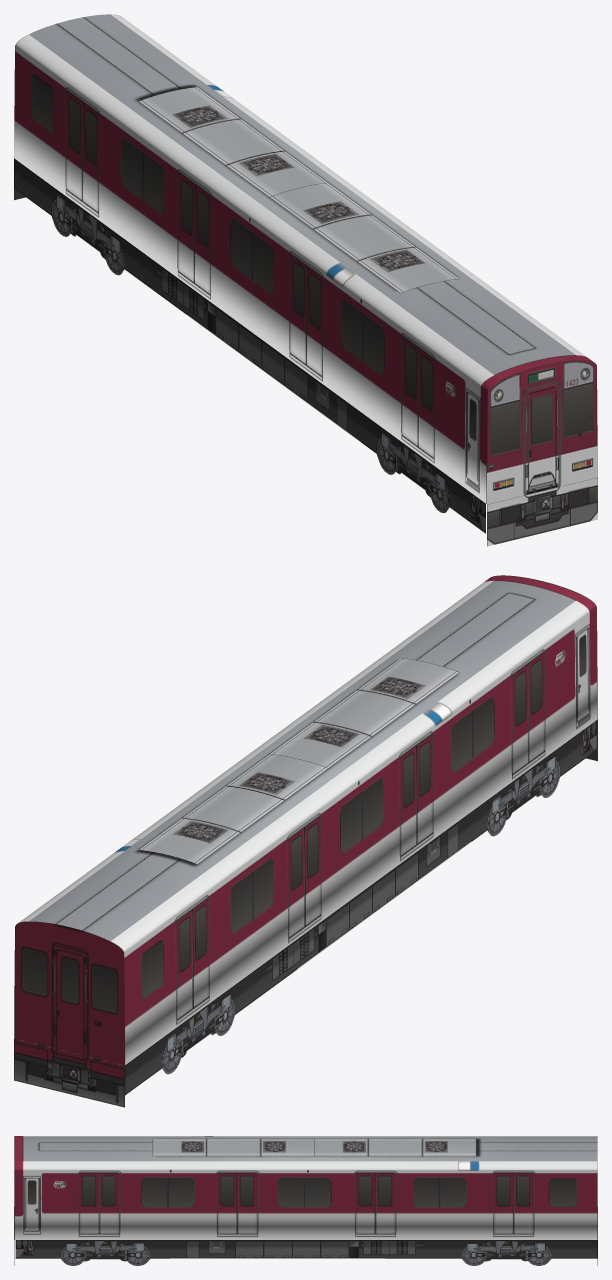
The model's file is car1.glb.
3 renders of one model, top to bottom at view 1: azimuth 30°, elevation 25°; view 2: azimuth 150°, elevation 25°; view 3: azimuth 270°, elevation 25°, orthographic. The views are drawn at different scales.
Visible parts, largest first — view 1: kintetsu-1430-car1; view 2: kintetsu-1430-car1; view 3: kintetsu-1430-car1.
Boxes of the visible parts, x1=… form: kintetsu-1430-car1: x1=14, y1=14, x2=597, y2=546; kintetsu-1430-car1: x1=14, y1=575, x2=597, y2=1107; kintetsu-1430-car1: x1=14, y1=1136, x2=597, y2=1265.
Bounding box in the file's own units: 2.8 × 4.03 × 20.75.
9 materials, 8 textured.
